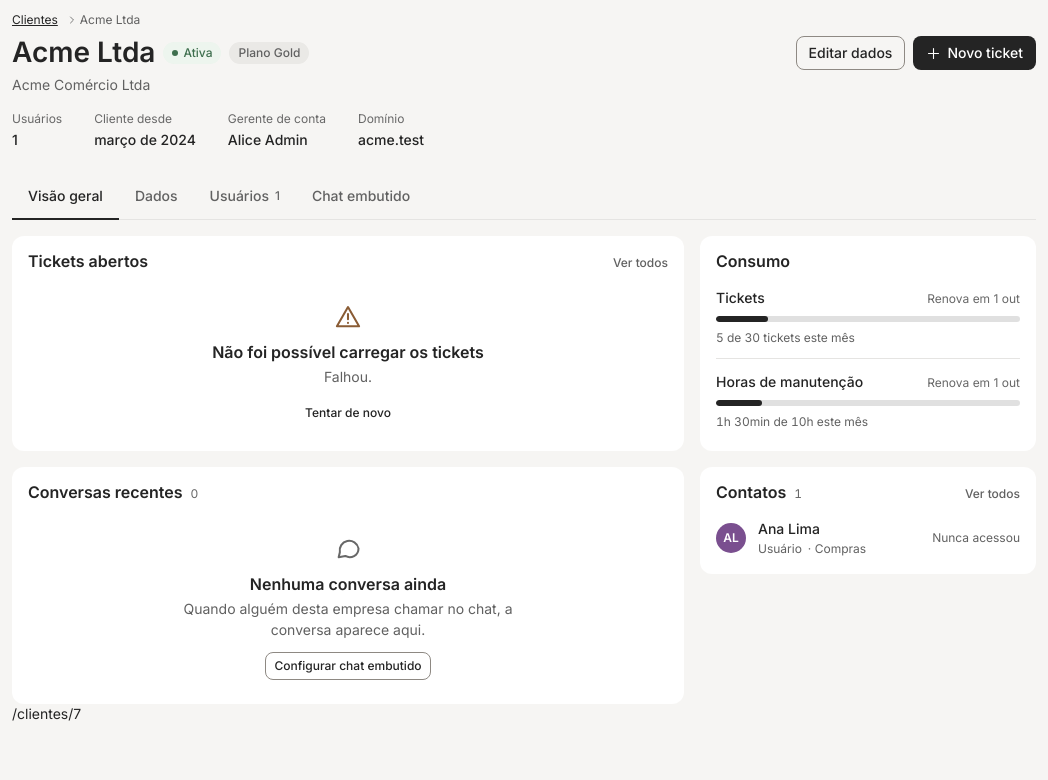
Scenario: PaginaDetalheEmpresa — visão geral › falha nos tickets fica no bloco, com tentar de novo
Expected: the text "Não foi possível carregar os tickets" is shown, [212,343,484,362]
Expected: the text "5 de 30 tickets este mês" is shown, [716,330,855,345]
Click the button "Tentar de novo": [348, 413] box [293,399,403,427]
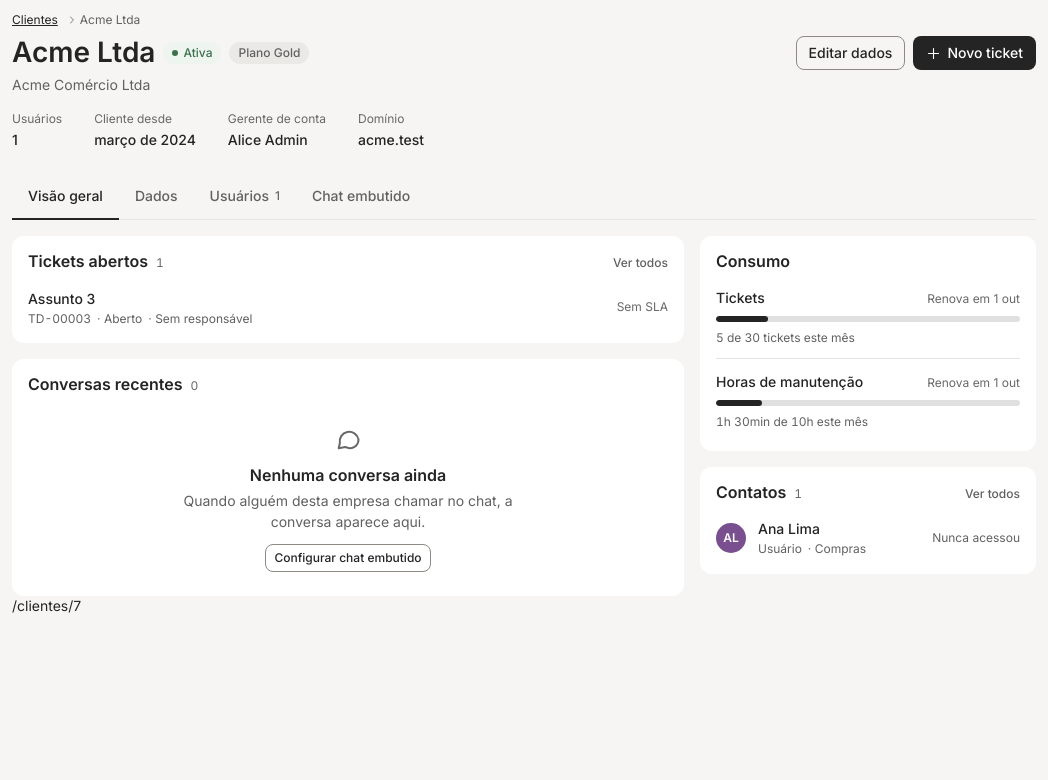
Expected: the link "Assunto 3 TD-00003 · Aberto · Sem responsável Sem SLA" is shown, [20,279,676,335]
